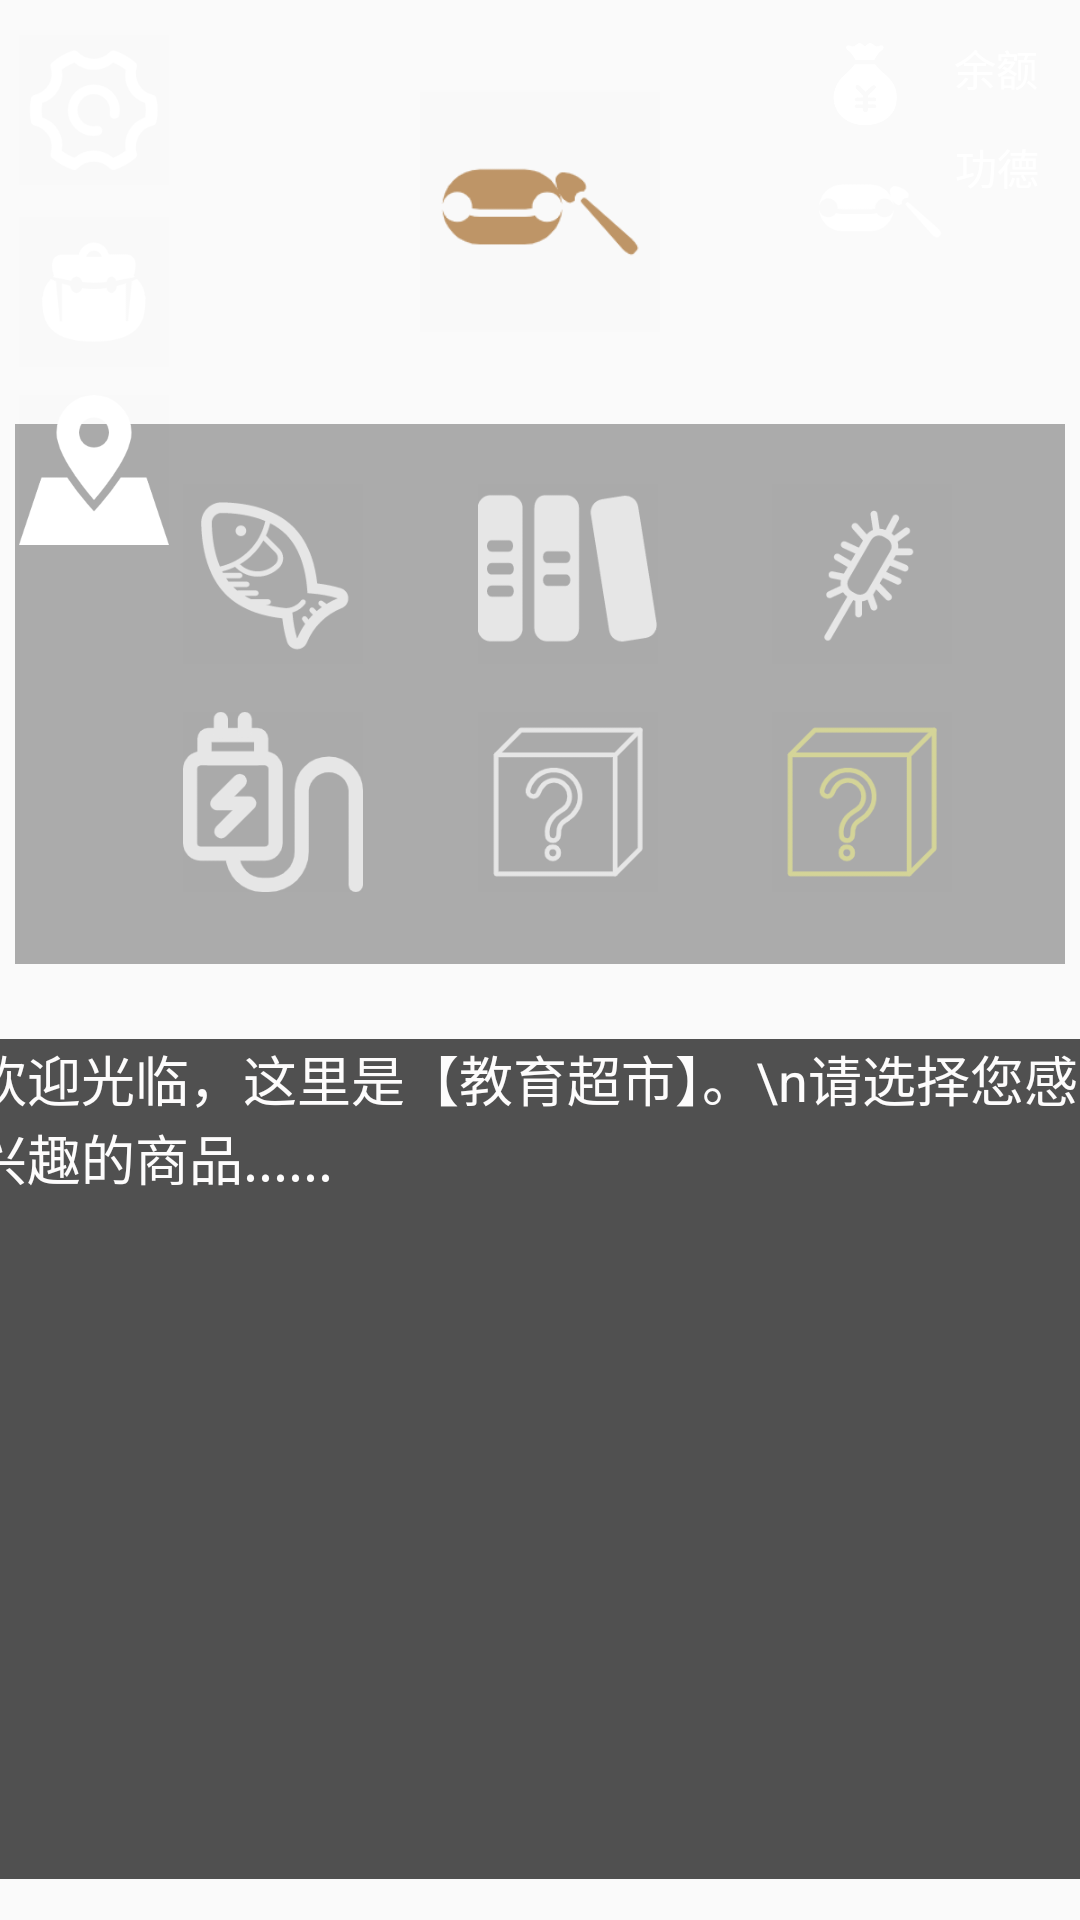

Where to tap for icons on this 1080w x 1920h app screen, as [x,y]:
item cat book: [567,568]
item cat toy: [868,576]
item charge: [273,802]
item fish: [274,575]
item quest: [568,802], [862,802]
map: [94,470]
muyu brown: [540,212]
